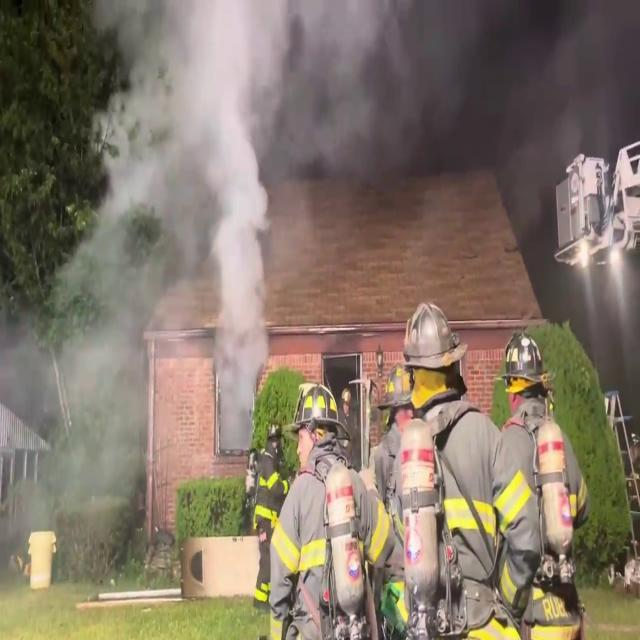Smoke: (2, 0, 292, 453), (273, 0, 640, 205)
